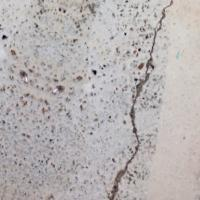crack: (95, 13, 190, 199)
